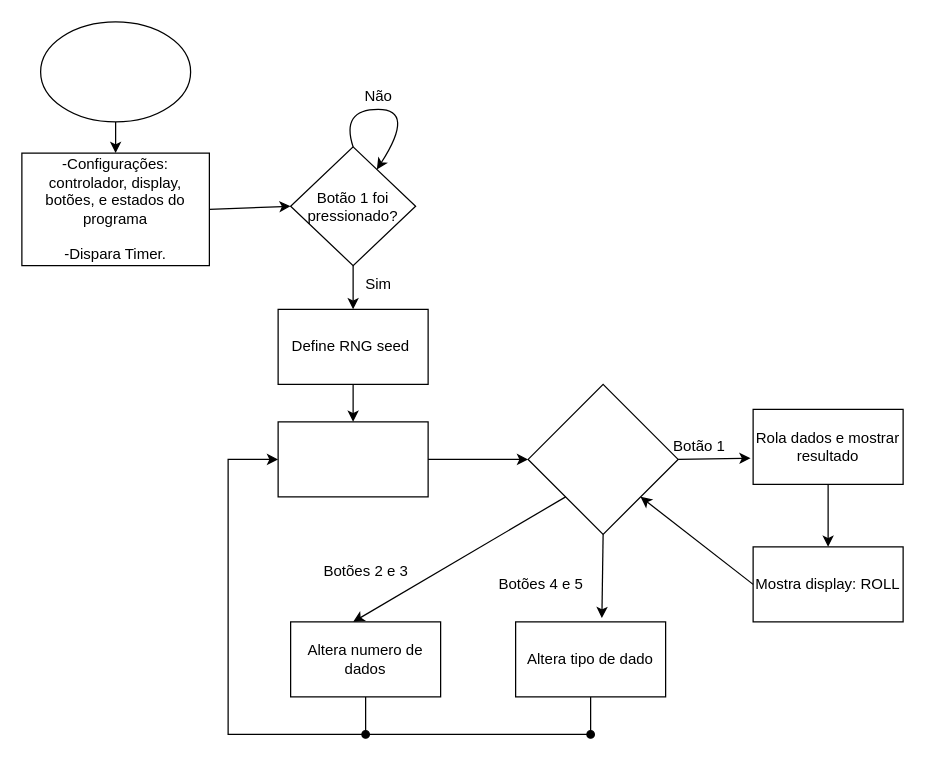
Image size: 925x766. Some labels were removed from this diagram. Here are the shapes that lost their labels. From the top down, the centre of each, then its label:
At (115,71): "INICIO".
At (352,459): "Mostra display MENU".
At (602,458): "Espera input do usuario".
